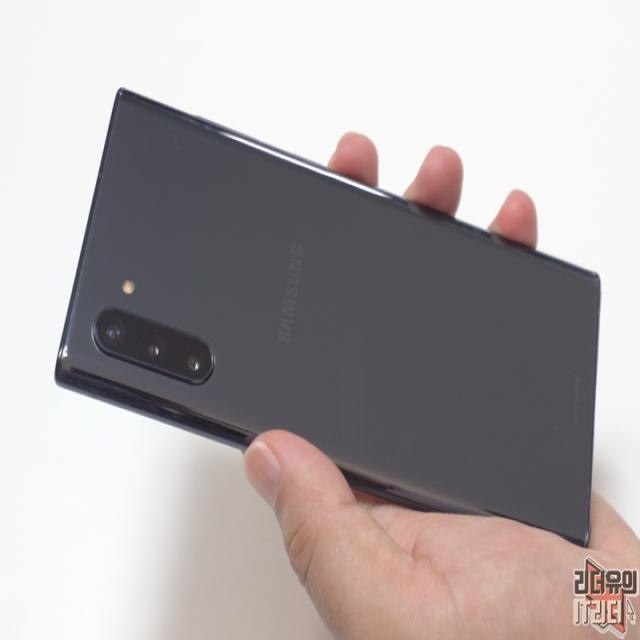phone: (50, 81, 606, 549)
